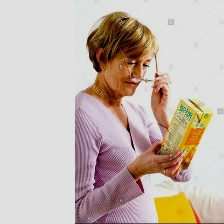carton: (152, 94, 214, 174)
